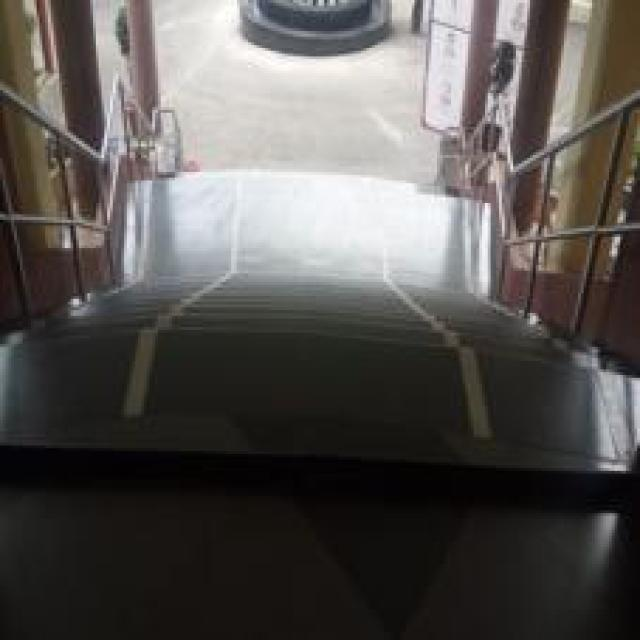downstair: (148, 263, 472, 399)
